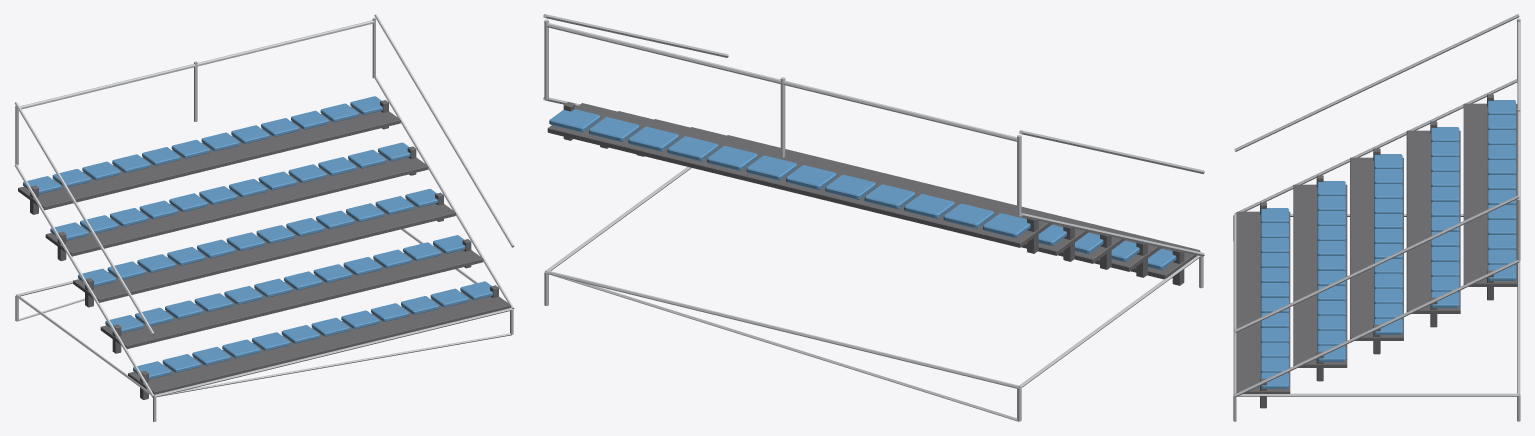
Rendered from live-music-venue-and-festival-stage-scaffold-seating-s-9d4b68da__33936.glb.
3 renders of one model, left to right at view 1: azimuth 30°, elevation 25°; view 2: azimuth 150°, elevation 25°; view 3: azimuth 270°, elevation 25°, orthographic. The views are drawn at different scales.
Parts seen in each view (by area): view 1: scaffold-seating-stand; view 2: scaffold-seating-stand; view 3: scaffold-seating-stand.
Part boxes in pixels (left/top/right/bottom): scaffold-seating-stand: left=14, top=14, right=514, bottom=421; scaffold-seating-stand: left=543, top=14, right=1204, bottom=421; scaffold-seating-stand: left=1233, top=14, right=1520, bottom=421.
Size of the model in its own units: 6.09 by 3.53 by 4.05.
